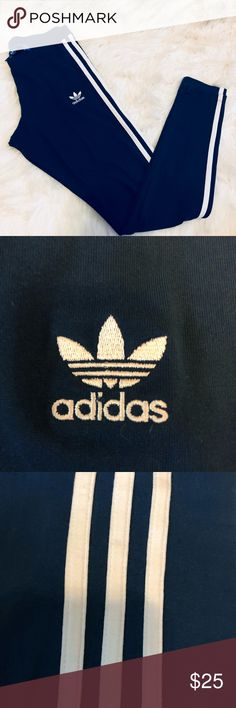adidas Originale: (43, 309, 182, 435), (58, 87, 94, 110)
